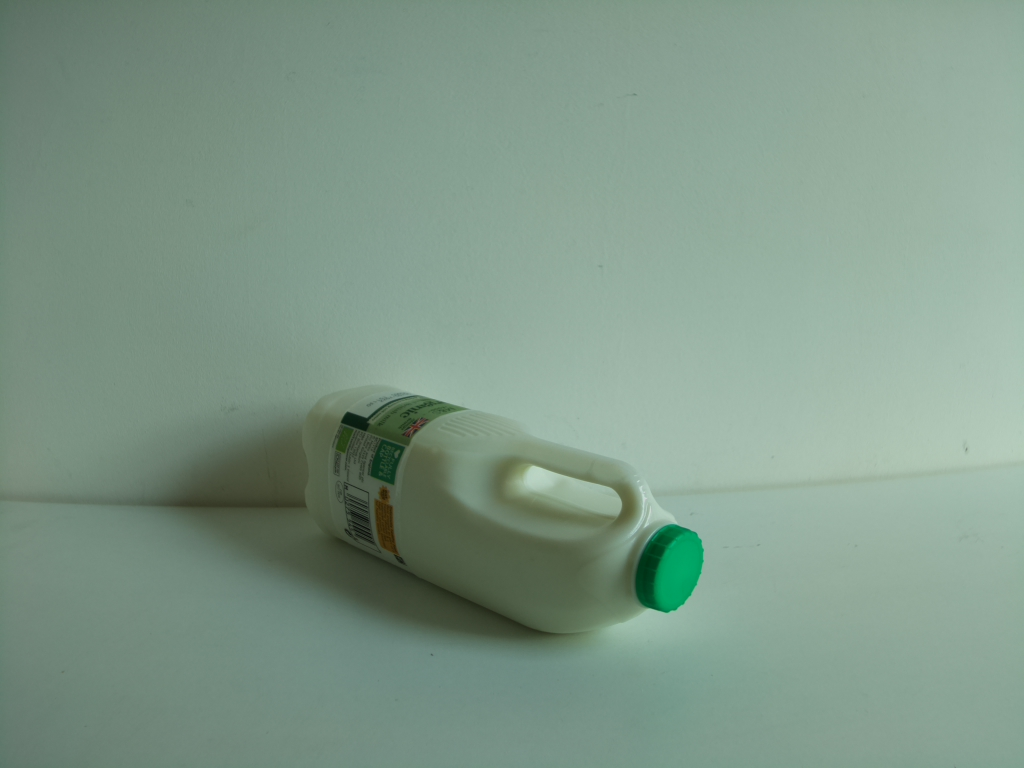milk: (298, 380, 708, 642)
